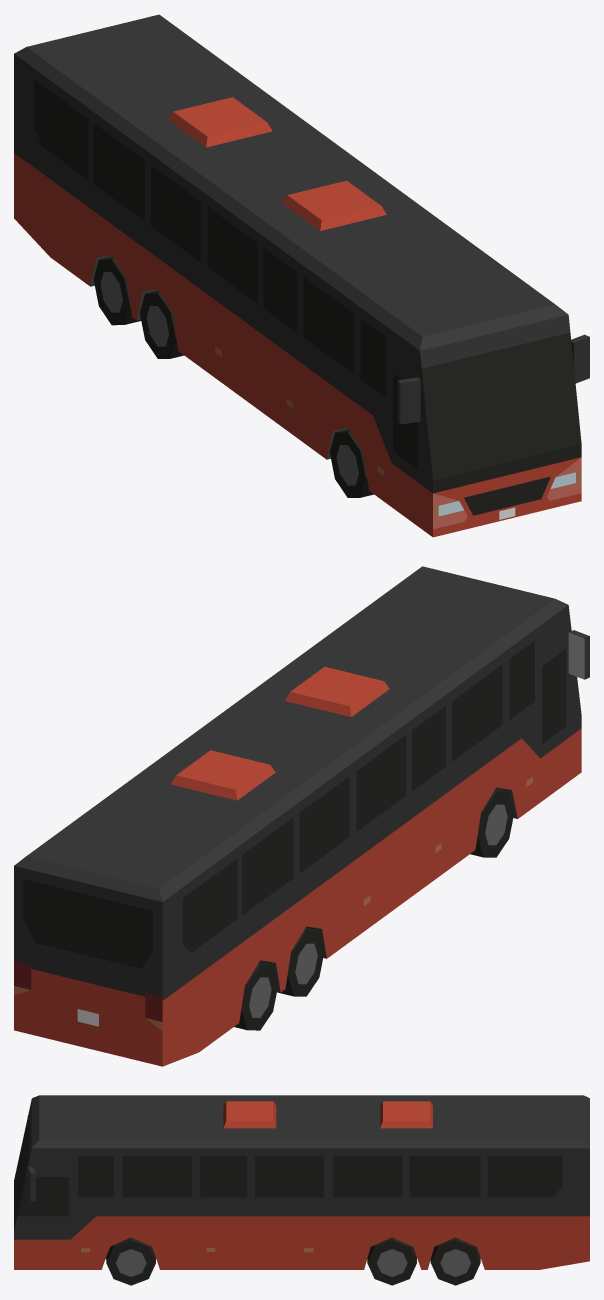
Rendered from Veh_Coach_01_Red.obj.
3 renders of one model, top to bottom at view 1: azimuth 30°, elevation 25°; view 2: azimuth 150°, elevation 25°; view 3: azimuth 270°, elevation 25°, orthographic. The views are drawn at different scales.
Size of the model in its own units: 1.75 by 1.9 by 6.68.
